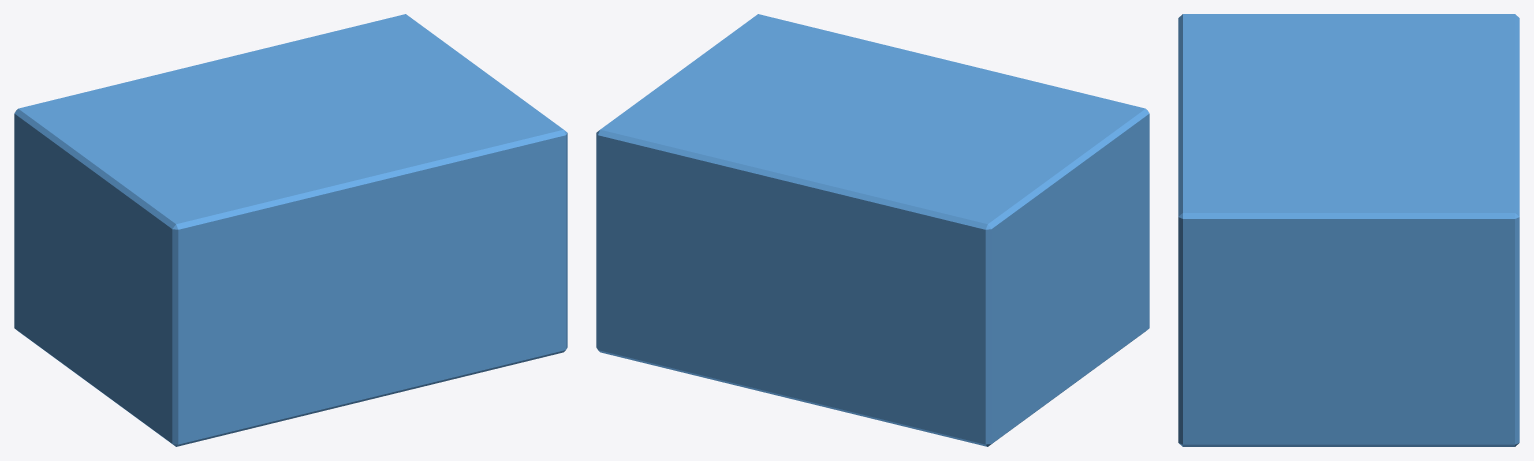
File: Workspace.dae
3 views of the same model, side by side, from view 1: azimuth 30°, elevation 25°; view 2: azimuth 150°, elevation 25°; view 3: azimuth 270°, elevation 25° (orthographic). The views are drawn at different scales.
Visible parts, largest first — view 1: WorkSpace_2; view 2: WorkSpace_2; view 3: WorkSpace_2.
Part boxes in pixels (box(x1,y1,x2,y2)): WorkSpace_2: box(14, 14, 567, 446); WorkSpace_2: box(596, 14, 1149, 446); WorkSpace_2: box(1178, 14, 1519, 446).
Bounding box in the file's own units: 0.104 × 0.074 × 0.056.
